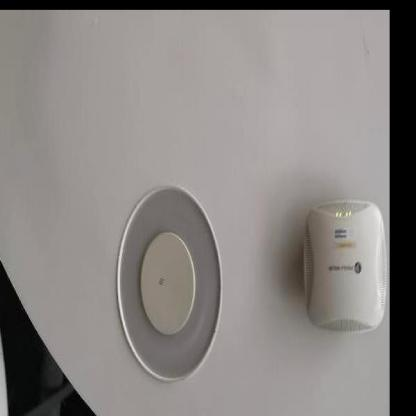light_off: (106, 139, 228, 405)
